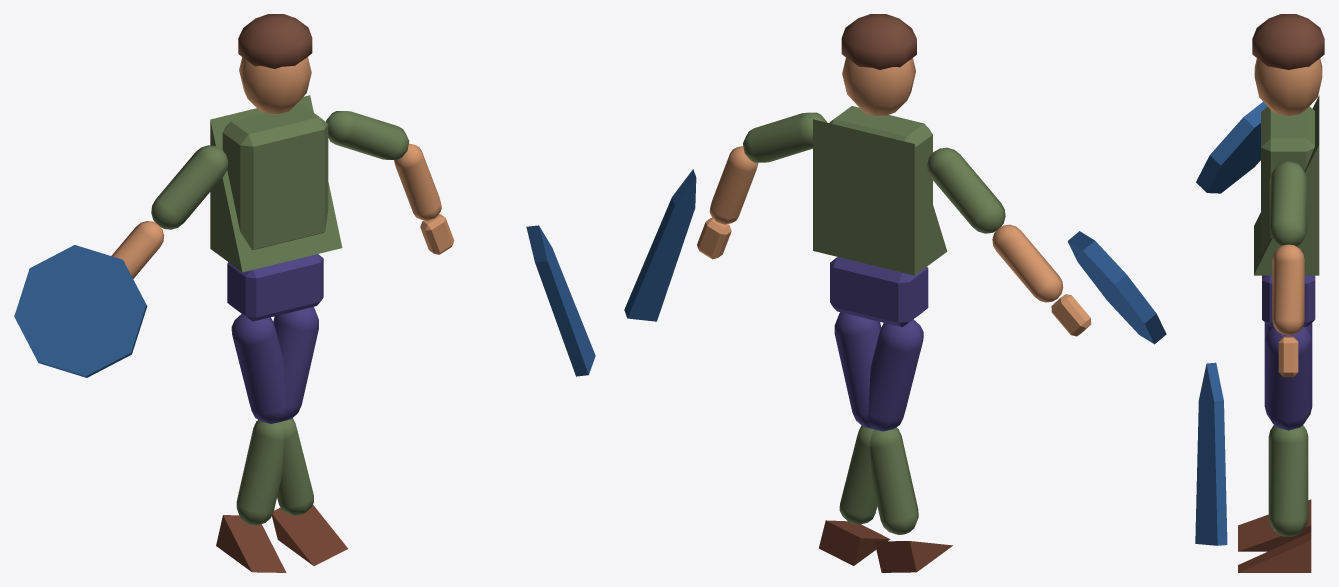
File: adventurer.rustic.glb
3 renders of one model, left to right at view 1: azimuth 30°, elevation 25°; view 2: azimuth 150°, elevation 25°; view 3: azimuth 270°, elevation 25°, orthographic.
Parts seen in each view (by area): view 1: accessory.off-hand, torso, tunic, pelvis, thigh.left, shin.right, accessory.main-hand, upper-arm.left, hair, thigh.right, head, upper-arm.right (+6 smaller); view 2: tunic, pelvis, thigh.left, accessory.main-hand, shin.right, accessory.off-hand, upper-arm.left, hair, thigh.right, head, forearm.left, upper-arm.right (+7 smaller); view 3: accessory.main-hand, shin.left, thigh.right, torso, hair, accessory.off-hand, upper-arm.right, tunic, head, forearm.right, foot.left, foot.right (+2 smaller).
Part boxes in pixels (<box>): accessory.off-hand: <box>14,245,147,377</box>; torso: <box>222,104,328,249</box>; tunic: <box>210,95,342,272</box>; pelvis: <box>227,254,323,321</box>; thigh.left: <box>231,314,285,423</box>; shin.right: <box>236,420,284,525</box>; accessory.main-hand: <box>526,225,595,376</box>; upper-arm.left: <box>151,145,228,229</box>; hair: <box>238,14,312,68</box>; thigh.right: <box>273,307,318,421</box>; head: <box>239,57,311,113</box>; upper-arm.right: <box>326,111,409,159</box>; tunic: <box>813,119,947,275</box>; pelvis: <box>830,257,928,327</box>; thigh.left: <box>868,319,923,431</box>; accessory.main-hand: <box>624,169,696,321</box>; shin.right: <box>870,427,918,534</box>; accessory.off-hand: <box>1067,231,1166,344</box>; upper-arm.left: <box>927,147,1005,233</box>; hair: <box>841,14,916,69</box>; thigh.right: <box>834,312,881,428</box>; head: <box>842,58,915,115</box>; forearm.left: <box>992,224,1063,302</box>; upper-arm.right: <box>743,112,827,162</box>; accessory.main-hand: <box>1195,362,1227,545</box>; shin.left: <box>1268,426,1308,536</box>; thigh.right: <box>1264,327,1312,430</box>; torso: <box>1261,106,1314,251</box>; hair: <box>1252,14,1324,69</box>; accessory.off-hand: <box>1196,102,1267,193</box>; upper-arm.right: <box>1269,161,1307,246</box>; tunic: <box>1254,95,1319,275</box>; head: <box>1254,58,1322,115</box>; forearm.right: <box>1272,244,1304,335</box>; foot.left: <box>1238,532,1311,572</box>; foot.right: <box>1238,499,1311,551</box>.
Bounding box in the file's own units: 3.26 × 3.01 × 0.654.
